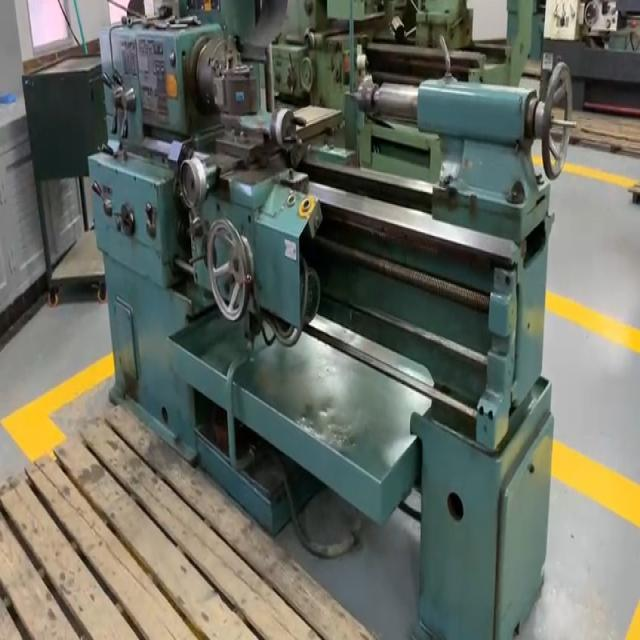tour parallele: (79, 0, 585, 640)
